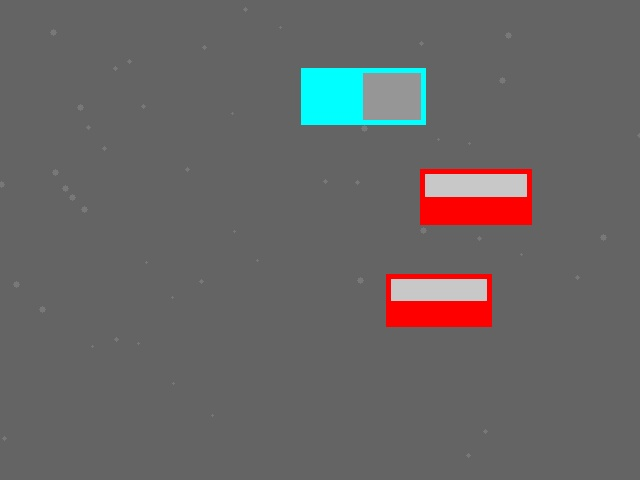car: (420, 169, 531, 224), (386, 274, 491, 326)
truck: (301, 68, 425, 124)
